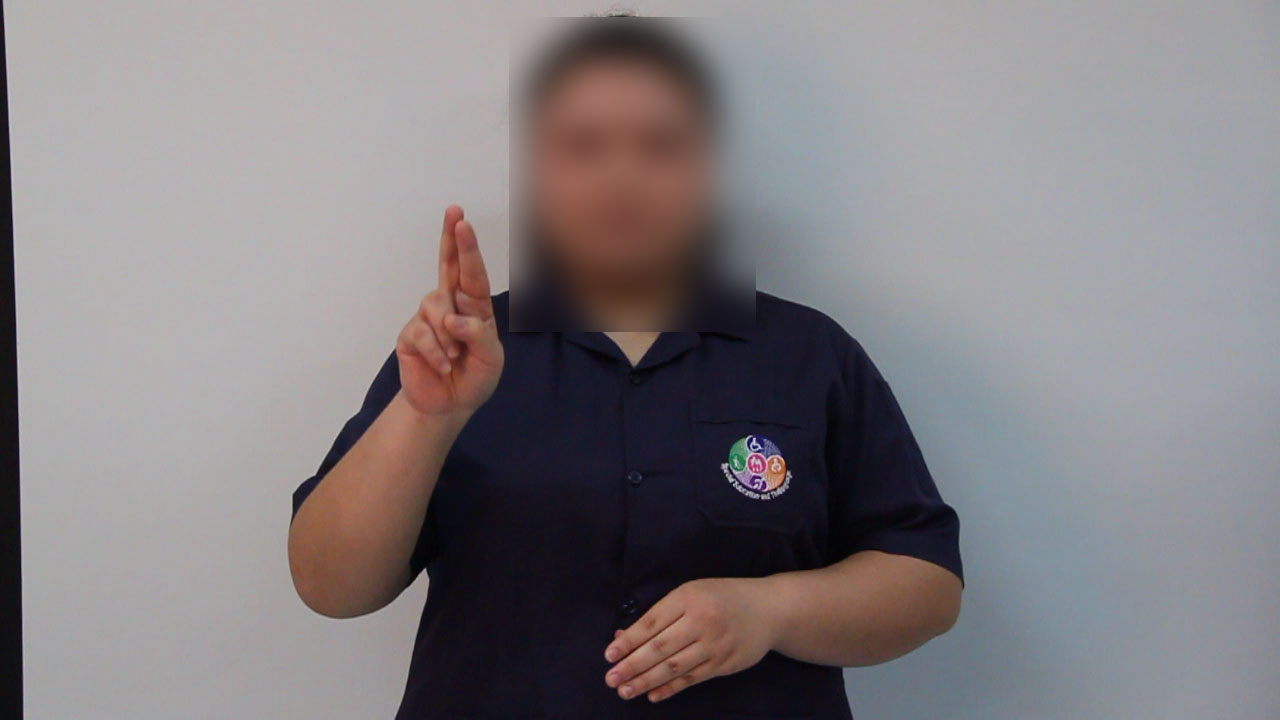rao: (355, 190, 521, 418)
